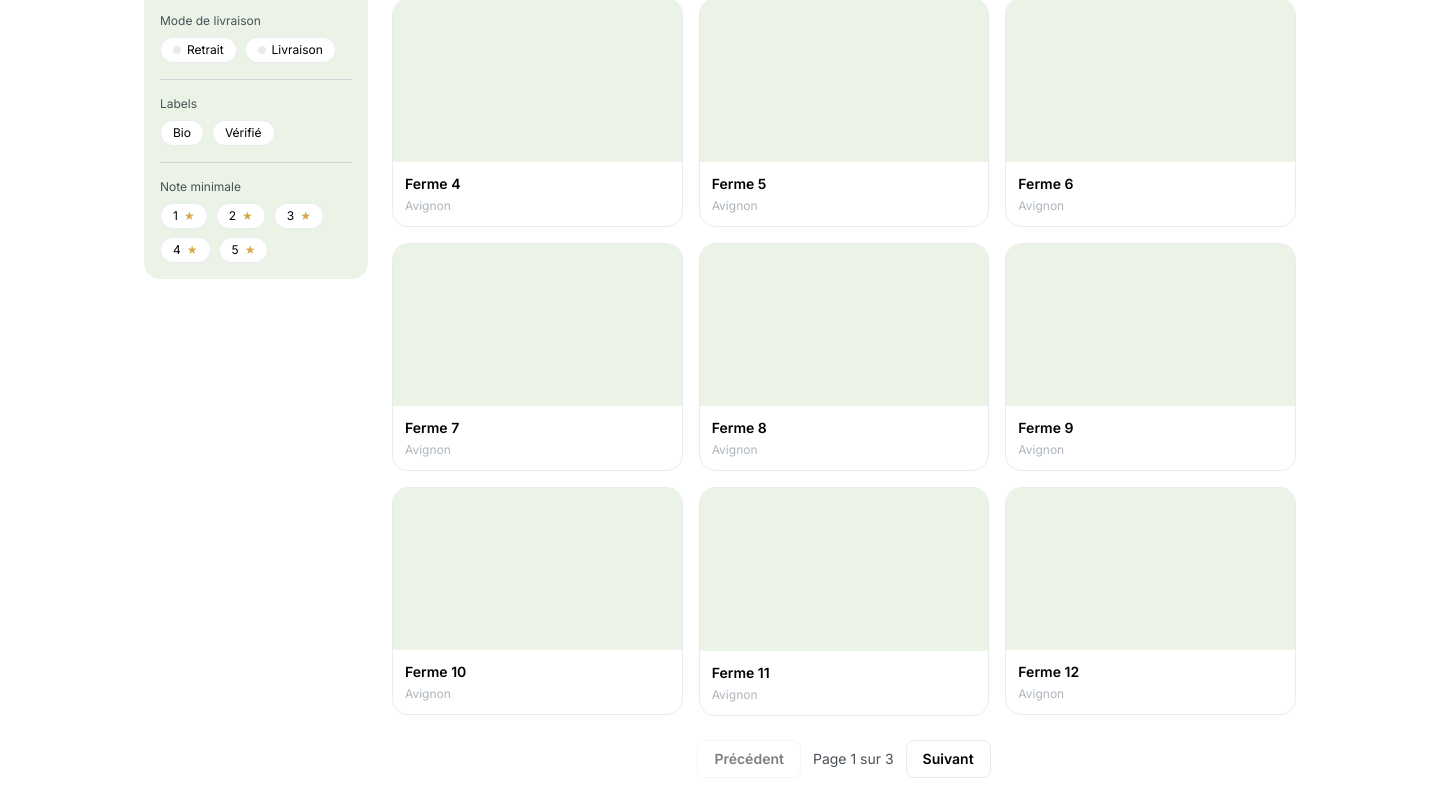
Test case: ProducersComponent › désactive « Précédent » en première page et « Suivant » en dernière page
(page scrolled)
Expected: the button "Précédent" is disabled, [697,740,801,778]
What coordinates should you click on to do the following:
click the button "Suivant"
I would click on:
 (948, 758)
Its box is [906,740,991,778].
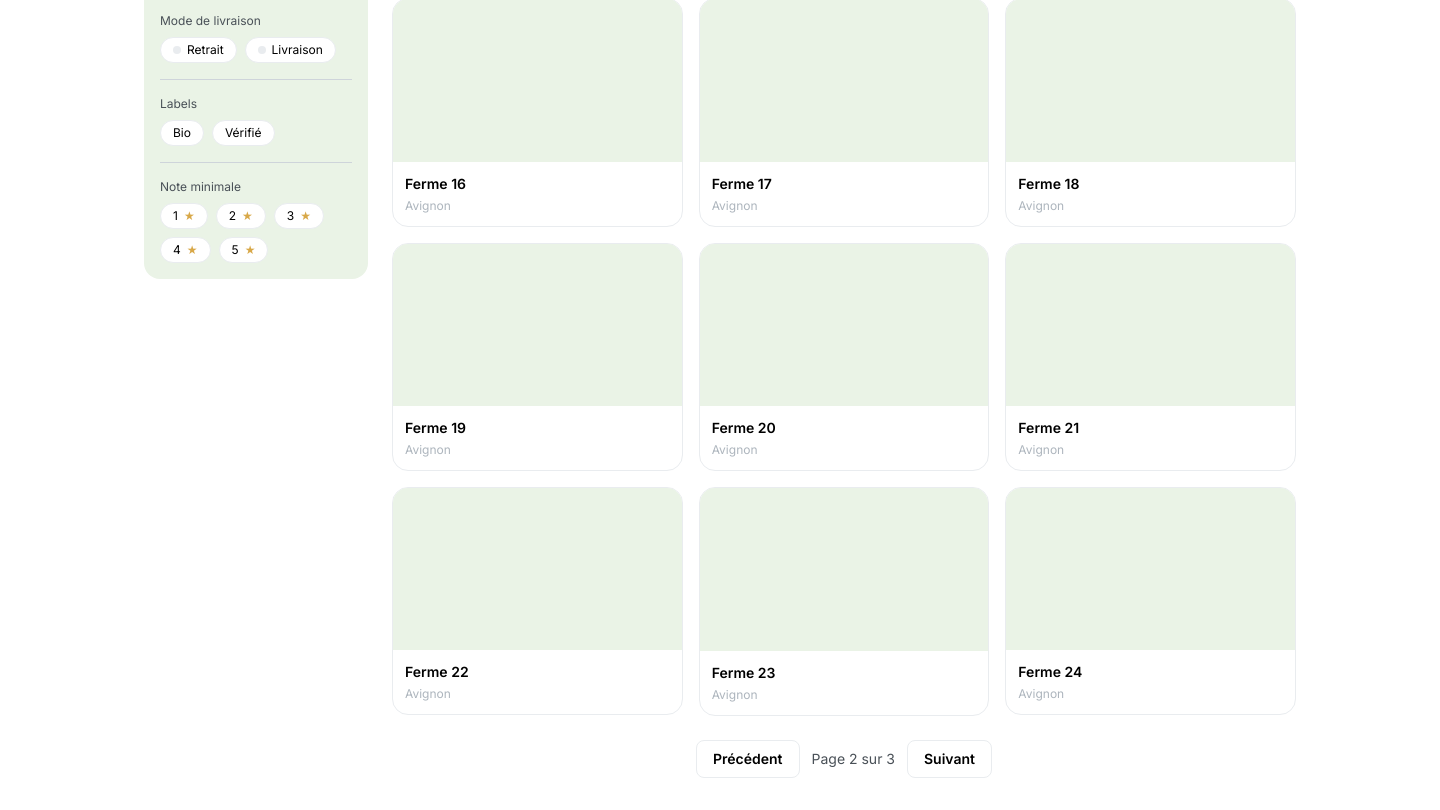
What coordinates should you click on to do the following:
click the button "Suivant"
I would click on:
 (950, 758)
Its box is [907,740,992,778].
(page scrolled)
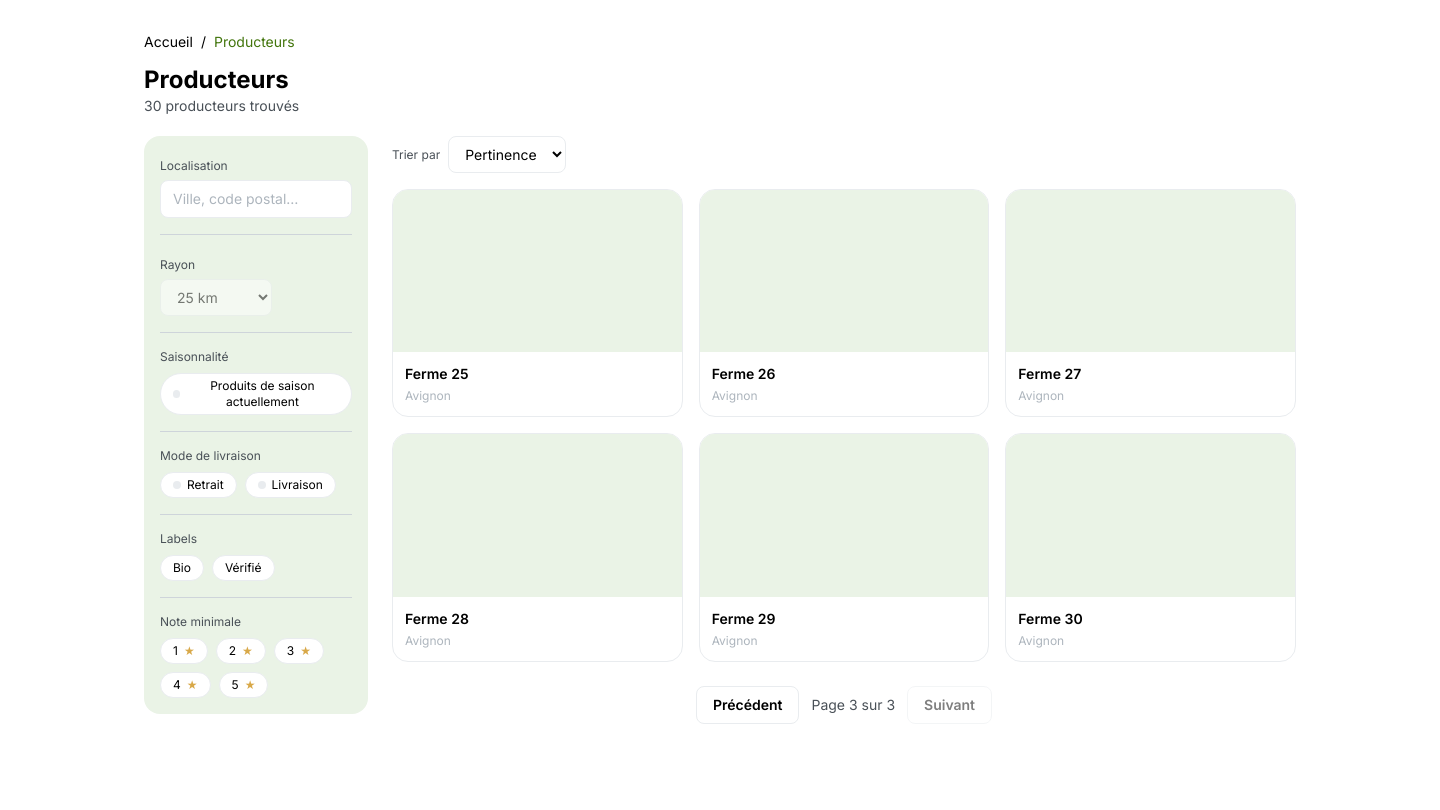
Expected: the button "Précédent" is enabled, [696,686,799,724]
Expected: the navigation bar named "Pagination" shows "Page 3 sur 3", [812,696,895,713]
Expected: the button "Suivant" is disabled, [907,686,992,724]
